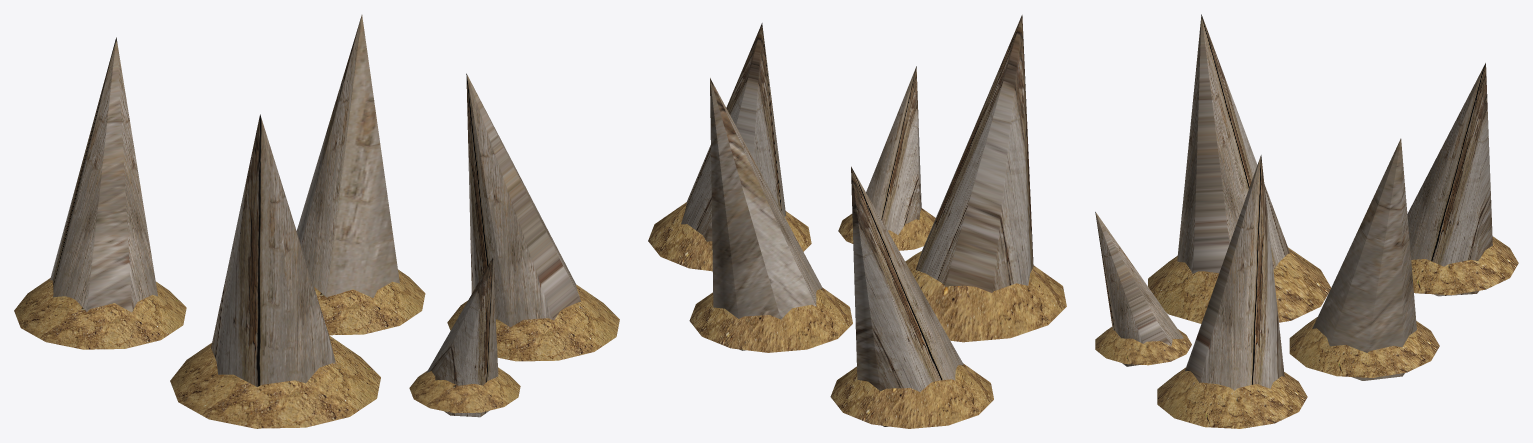
The model's file is traps_spikes.FBX.
The picture shows the model from 3 angles, left to right: view 1: azimuth 30°, elevation 25°; view 2: azimuth 150°, elevation 25°; view 3: azimuth 270°, elevation 25°; orthographic projection. The views are drawn at different scales.
Visible parts, largest first — view 1: Cone003; view 2: Cone003; view 3: Cone003.
Boxes of the visible parts, x1,y1,x2,y2 form: Cone003: (14, 15, 619, 428); Cone003: (648, 15, 1066, 428); Cone003: (1095, 14, 1518, 428).
Size of the model in its own units: 11.37 by 7.32 by 10.29.
